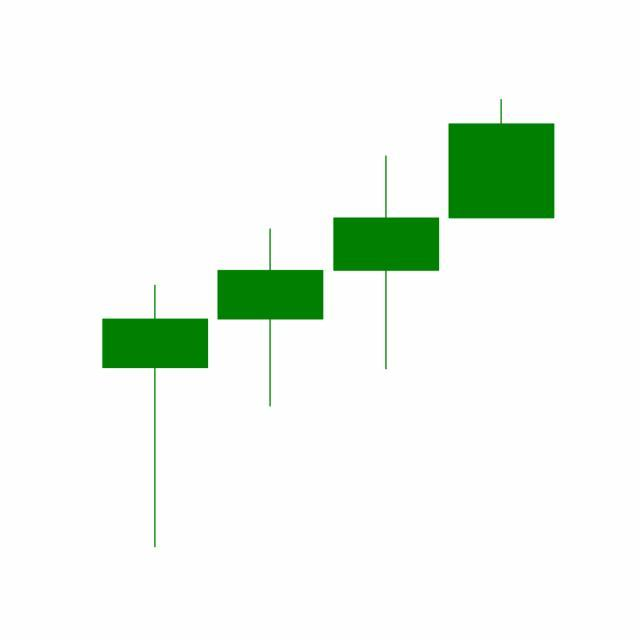Spinning Top: (329, 154, 445, 373)
